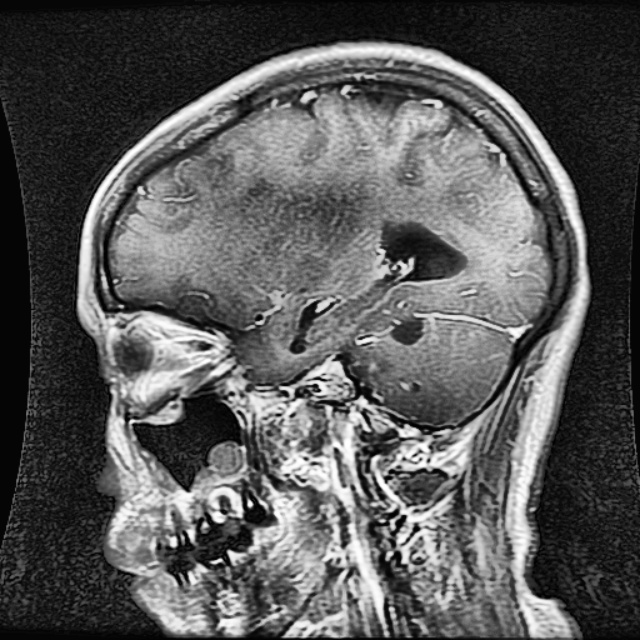Meningioma: (394, 315, 422, 343)
